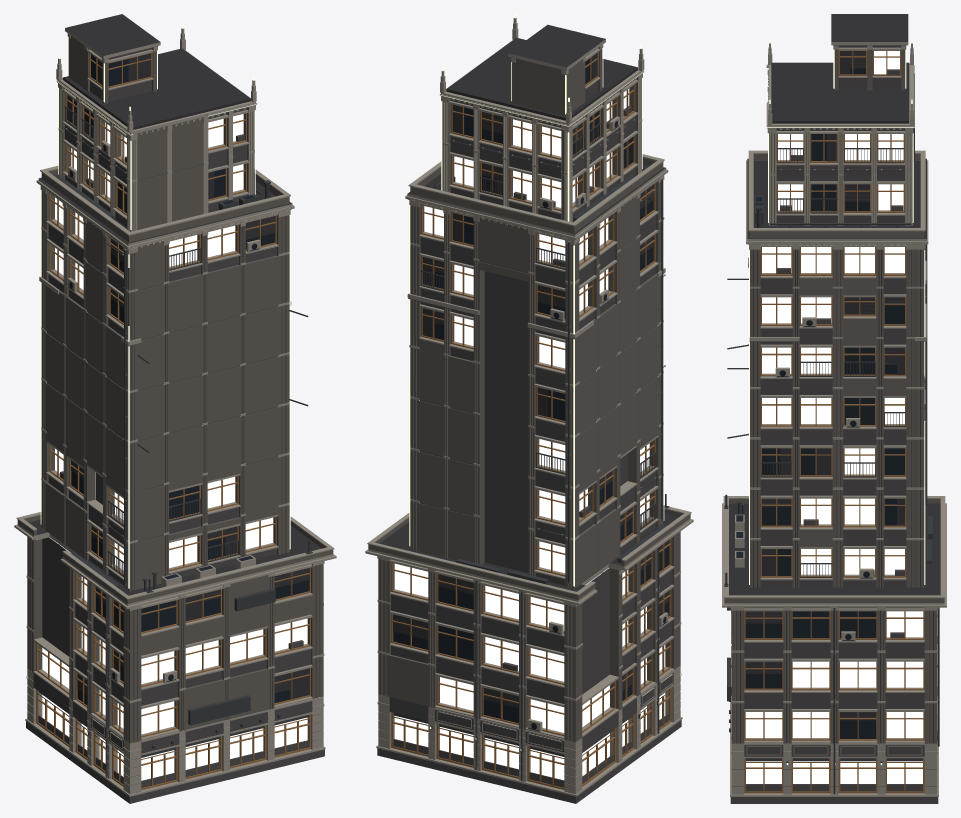
Rendered from landmark219b.glb.
3 renders of one model, left to right at view 1: azimuth 30°, elevation 25°; view 2: azimuth 150°, elevation 25°; view 3: azimuth 270°, elevation 25°, orthographic.
Visible parts, largest first — view 1: l219-wall, l219-trim, l219-wall2, l219-roof, l219-frame, l219-steel, l219-dark, l219-room1, l219-shop, l219-room2, l219-room0, l219-lamp; view 2: l219-wall, l219-wall2, l219-trim, l219-frame, l219-roof, l219-steel, l219-dark, l219-room1, l219-room0, l219-shop, l219-room2, l219-lamp; view 3: l219-wall, l219-trim, l219-wall2, l219-roof, l219-frame, l219-dark, l219-room1, l219-room0, l219-steel, l219-room2, l219-shop, l219-lamp.
Part boxes in pixels (x1,y1,x2,y2): l219-wall: (17,36,333,743); l219-trim: (14,28,336,796); l219-wall2: (26,46,324,803); l219-roof: (29,14,321,699); l219-frame: (36,52,310,790); l219-steel: (38,106,312,777); l219-dark: (67,54,308,705); l219-room1: (42,122,307,734); l219-shop: (42,695,307,780); l219-room2: (55,119,273,549); l219-room0: (75,114,263,728); l219-lamp: (36,24,290,747); l219-wall: (368,47,690,742); l219-wall2: (377,48,681,803); l219-trim: (365,17,693,796); l219-frame: (391,52,671,789); l219-roof: (379,24,678,708); l219-steel: (393,118,669,780); l219-dark: (393,57,669,730); l219-room1: (394,88,649,726); l219-room0: (454,119,665,732); l219-shop: (394,693,665,780); l219-room2: (424,156,649,619); l219-lamp: (409,14,671,750); l219-wall: (724,49,944,743); l219-trim: (722,42,946,796); l219-wall2: (730,45,938,803); l219-roof: (729,14,940,720); l219-frame: (735,50,933,793); l219-dark: (736,68,904,738); l219-room1: (762,184,923,687); l219-room0: (745,51,923,737); l219-steel: (724,73,939,794); l219-room2: (778,134,923,737); l219-shop: (746,761,922,783); l219-lamp: (749,39,925,765).
Size of the model in its own units: 13.56 by 43.54 by 12.56.
